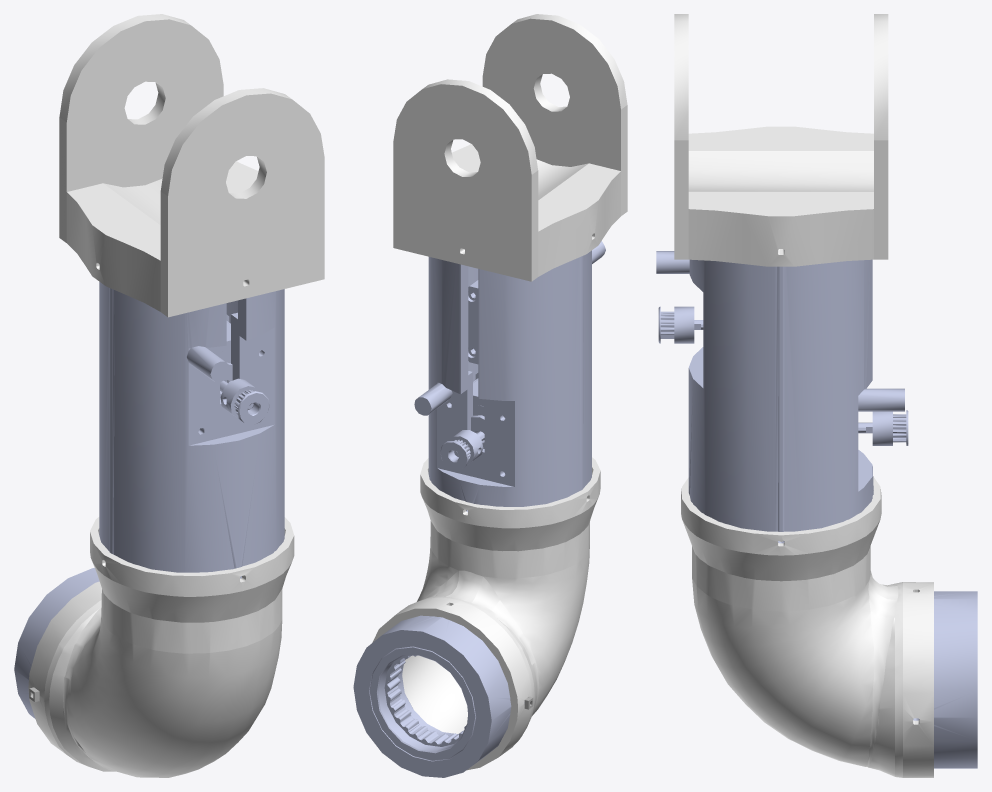
File: forearm_link.dae
3 renders of one model, left to right at view 1: azimuth 30°, elevation 25°; view 2: azimuth 150°, elevation 25°; view 3: azimuth 270°, elevation 25°, orthographic. The views are drawn at different scales.
Visible parts, largest first — view 1: forearm_link; view 2: forearm_link; view 3: forearm_link.
Boxes of the visible parts, x1,y1,x2,y2 form: forearm_link: (14,14,324,777); forearm_link: (353,14,627,777); forearm_link: (656,14,977,777).
Bounding box in the file's own units: 0.096 × 0.144 × 0.3695.
